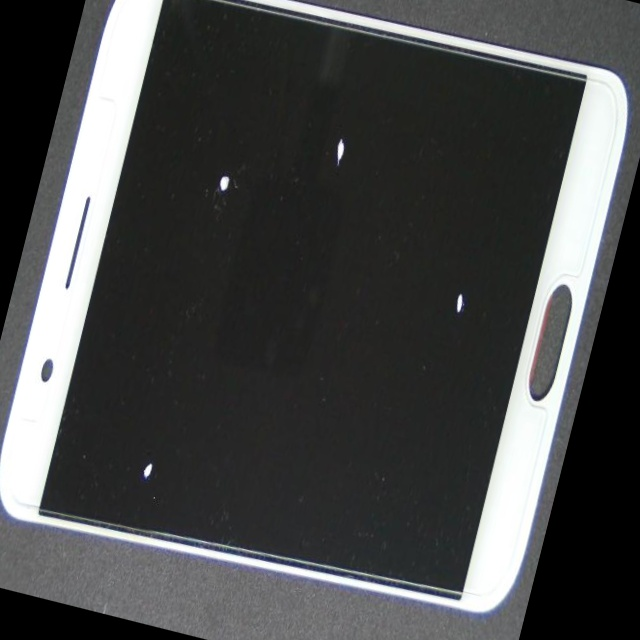stain: (174, 66, 639, 514), (19, 185, 278, 632), (145, 10, 490, 341), (129, 30, 353, 311)
